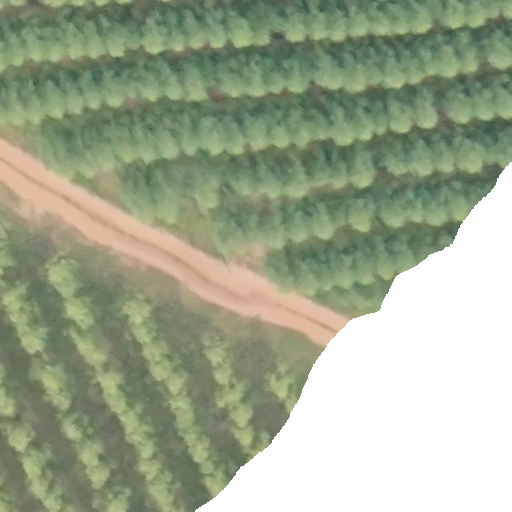eucalipto: (346, 141, 382, 191), (343, 194, 380, 238)
